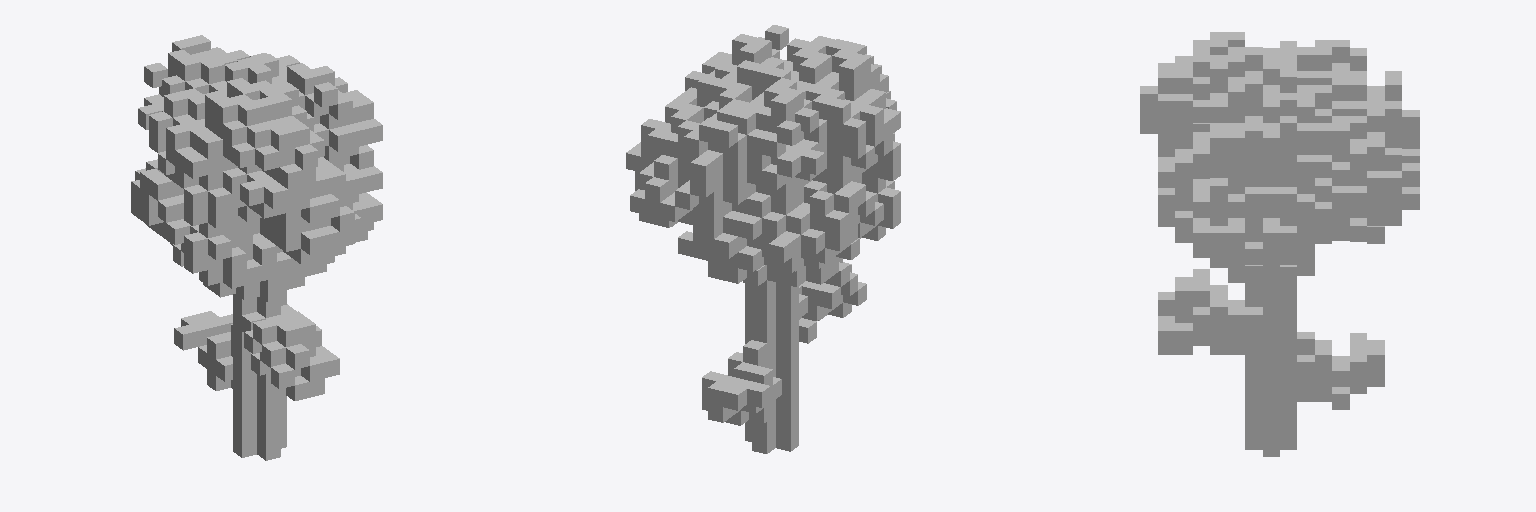
File: tree.obj
3 views of the same model, side by side, from view 1: azimuth 30°, elevation 25°; view 2: azimuth 150°, elevation 25°; view 3: azimuth 270°, elevation 25° (orthographic).
Parts seen in each view (by area): view 1: object 1; view 2: object 1; view 3: object 1.
Part boxes in pixels (bbox=[...]): object 1: bbox=[131, 35, 382, 460]; object 1: bbox=[626, 25, 900, 453]; object 1: bbox=[1140, 32, 1419, 456].
Size of the model in its own units: 1.3 by 2.4 by 1.6.